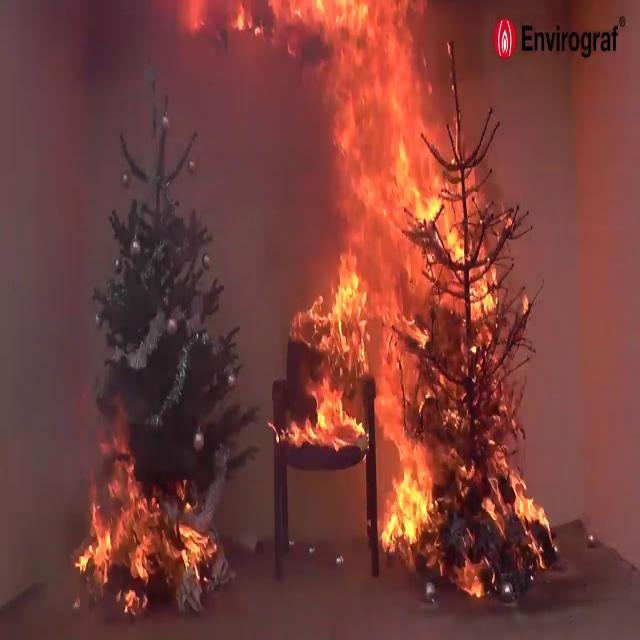Fire: (276, 0, 542, 602), (73, 446, 229, 622)
Smoke: (0, 0, 300, 352)
